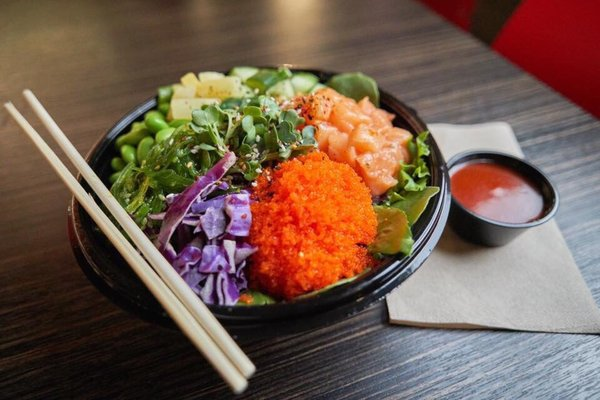sushi: (58, 62, 453, 350)
